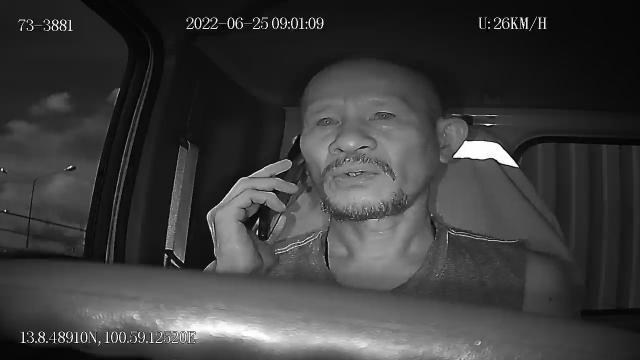PhoneUse: (255, 132, 305, 240)
SafeDriving: (307, 103, 347, 136), (363, 99, 405, 128)
